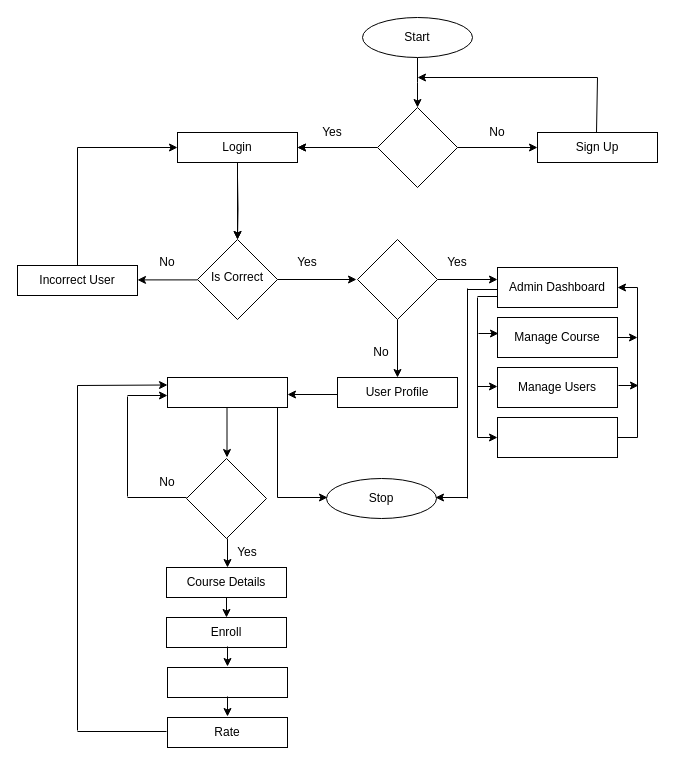
The diagram is 675 pixels wide and 765 high, and some of its shapes have lost their labels. The centre of each missing label's shape, as x and y in pixels:
Has an Account: [417,147]
Is Admin: [397,279]
Is Present: [226,498]
Search Menu: [227,392]
View Course: [227,682]
View User Ratings: [557,437]
